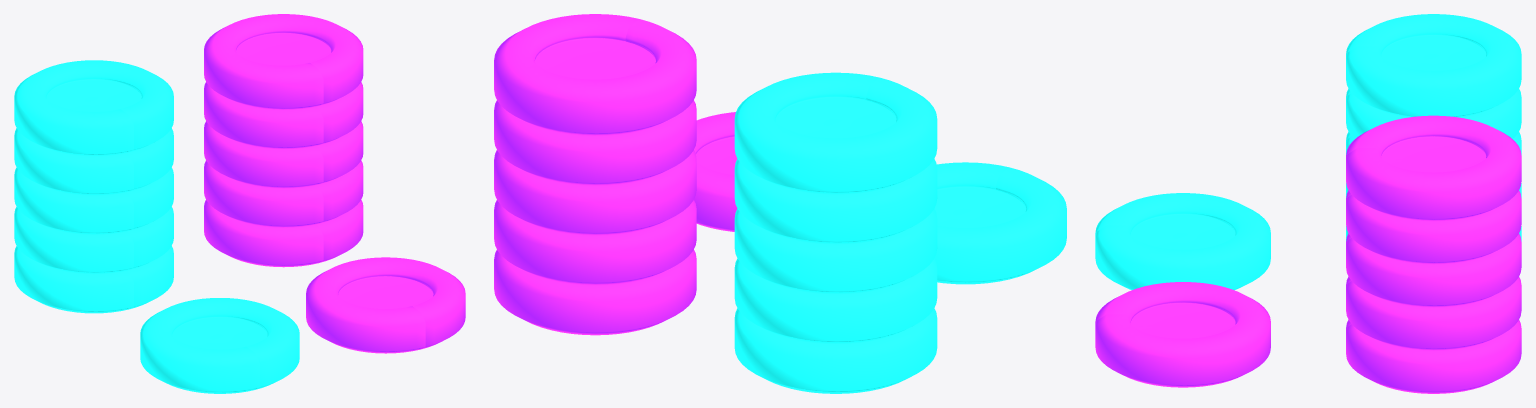
Rendered from checkers_cyberNeon.glb.
3 views of the same model, side by side, from view 1: azimuth 30°, elevation 25°; view 2: azimuth 150°, elevation 25°; view 3: azimuth 270°, elevation 25° (orthographic). The views are drawn at different scales.
Parts seen in each view (by area): view 1: checker_light_4, checker_face_dark, checker_dark_4, checker_face_light, checker_light_0, checker_light_2, checker_dark_2, checker_dark_1, checker_light_3, checker_dark_0, checker_dark_3, checker_light_1; view 2: checker_light_4, checker_dark_4, checker_face_light, checker_light_3, checker_light_2, checker_light_0, checker_light_1, checker_dark_1, checker_dark_2, checker_dark_0, checker_dark_3, checker_face_dark; view 3: checker_dark_4, checker_face_dark, checker_light_4, checker_face_light, checker_dark_1, checker_dark_2, checker_dark_0, checker_dark_3, checker_light_3.
Part boxes in pixels (left/top/right/bottom): checker_light_4: left=14, top=60, right=173, bottom=156; checker_face_dark: left=306, top=257, right=465, bottom=353; checker_dark_4: left=204, top=14, right=363, bottom=109; checker_face_light: left=140, top=298, right=299, bottom=393; checker_light_0: left=14, top=246, right=173, bottom=313; checker_light_2: left=14, top=167, right=173, bottom=234; checker_dark_2: left=204, top=121, right=363, bottom=188; checker_dark_1: left=204, top=160, right=363, bottom=227; checker_light_3: left=14, top=128, right=173, bottom=195; checker_dark_0: left=204, top=200, right=363, bottom=267; checker_dark_3: left=204, top=82, right=363, bottom=149; checker_light_1: left=14, top=207, right=173, bottom=274; checker_light_4: left=734, top=72, right=937, bottom=194; checker_dark_4: left=494, top=14, right=696, bottom=135; checker_face_light: left=934, top=162, right=1066, bottom=284; checker_light_3: left=734, top=159, right=937, bottom=244; checker_light_2: left=734, top=208, right=937, bottom=294; checker_light_0: left=734, top=308, right=937, bottom=393; checker_light_1: left=734, top=258, right=937, bottom=344; checker_dark_1: left=494, top=200, right=696, bottom=285; checker_dark_2: left=494, top=150, right=696, bottom=235; checker_dark_0: left=494, top=249, right=696, bottom=335; checker_dark_3: left=494, top=100, right=696, bottom=185; checker_face_dark: left=694, top=112, right=737, bottom=231; checker_dark_4: left=1346, top=115, right=1521, bottom=221; checker_face_dark: left=1095, top=282, right=1270, bottom=387; checker_light_4: left=1346, top=14, right=1521, bottom=117; checker_face_light: left=1095, top=193, right=1270, bottom=290; checker_dark_1: left=1346, top=276, right=1521, bottom=350; checker_dark_2: left=1346, top=233, right=1521, bottom=307; checker_dark_0: left=1346, top=320, right=1521, bottom=393; checker_dark_3: left=1346, top=190, right=1521, bottom=264; checker_light_3: left=1346, top=88, right=1521, bottom=138.
Bounding box in the file's own units: 0.083 × 0.047 × 0.085.
